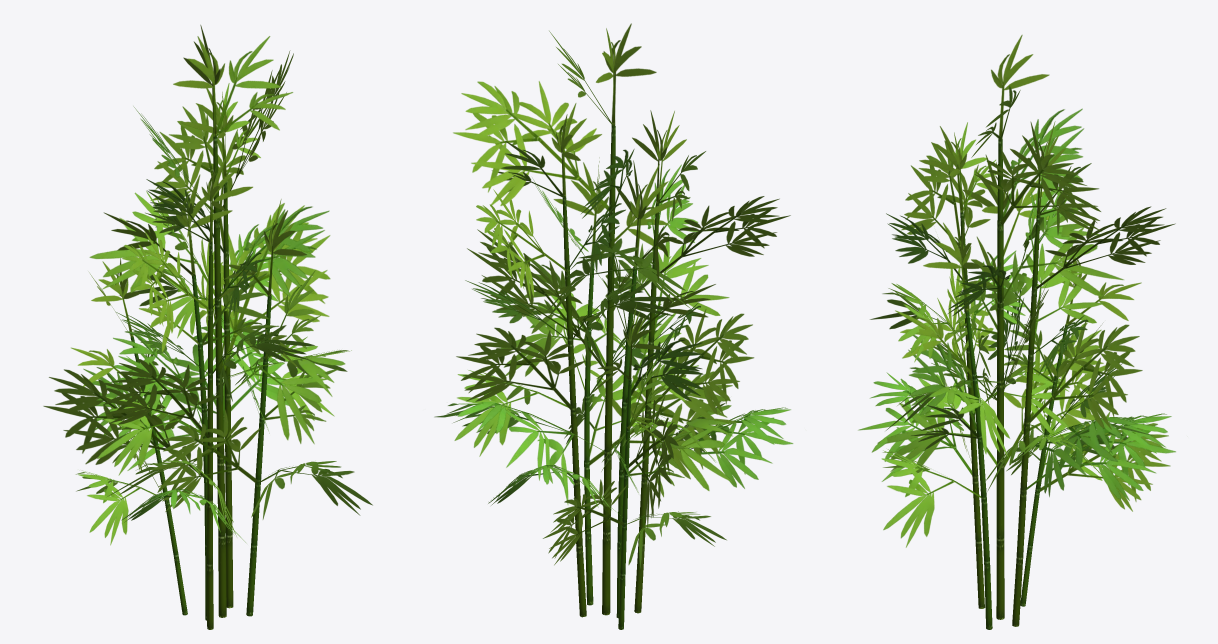
File: bamboo.glb
The picture shows the model from 3 angles, left to right: view 1: azimuth 30°, elevation 25°; view 2: azimuth 150°, elevation 25°; view 3: azimuth 270°, elevation 25°; orthographic projection. The views are drawn at different scales.
Size of the model in its own units: 1.78 by 3.23 by 1.8.
Materials: 1 (1 with a texture image).
